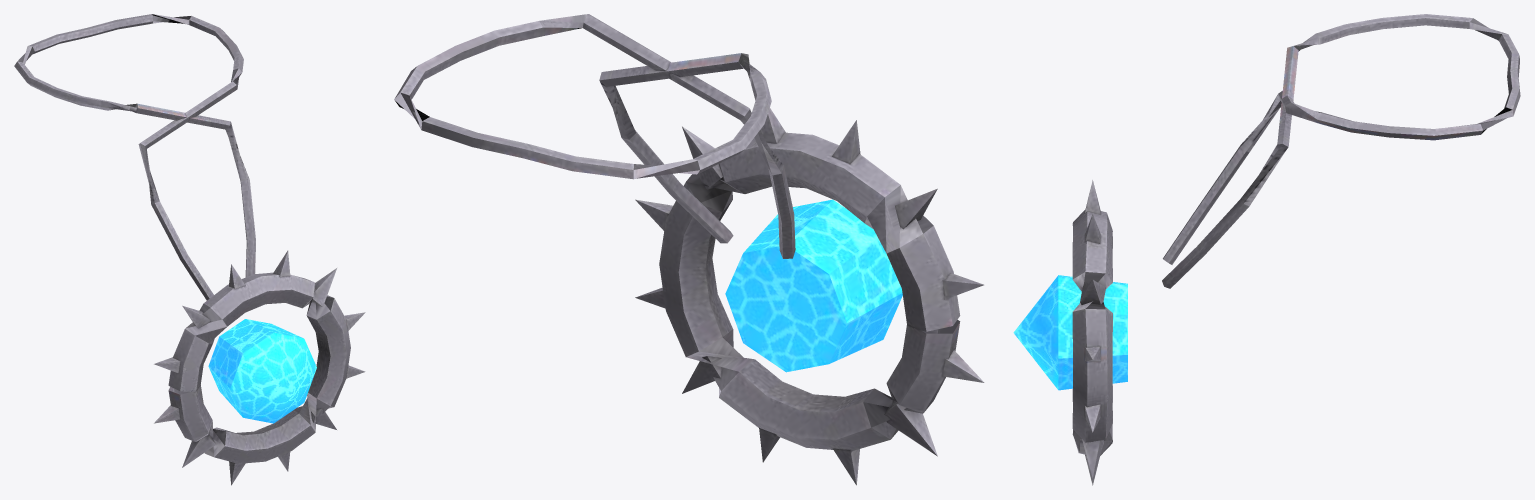
The model's file is Amuleto_do_Equilíbrio_nivel100.glb.
The picture shows the model from 3 angles, left to right: view 1: azimuth 30°, elevation 25°; view 2: azimuth 150°, elevation 25°; view 3: azimuth 270°, elevation 25°; orthographic projection. The views are drawn at different scales.
Parts seen in each view (by area): view 1: amuleto_do_equilibrio_nivel100; view 2: amuleto_do_equilibrio_nivel100; view 3: amuleto_do_equilibrio_nivel100.
Part boxes in pixels (<box>): amuleto_do_equilibrio_nivel100: <box>14,14,365,485</box>; amuleto_do_equilibrio_nivel100: <box>394,14,984,485</box>; amuleto_do_equilibrio_nivel100: <box>1013,14,1520,485</box>.
Bounding box in the file's own units: 0.1688 × 0.2474 × 0.2849.
Materials: 1 (1 with a texture image).
